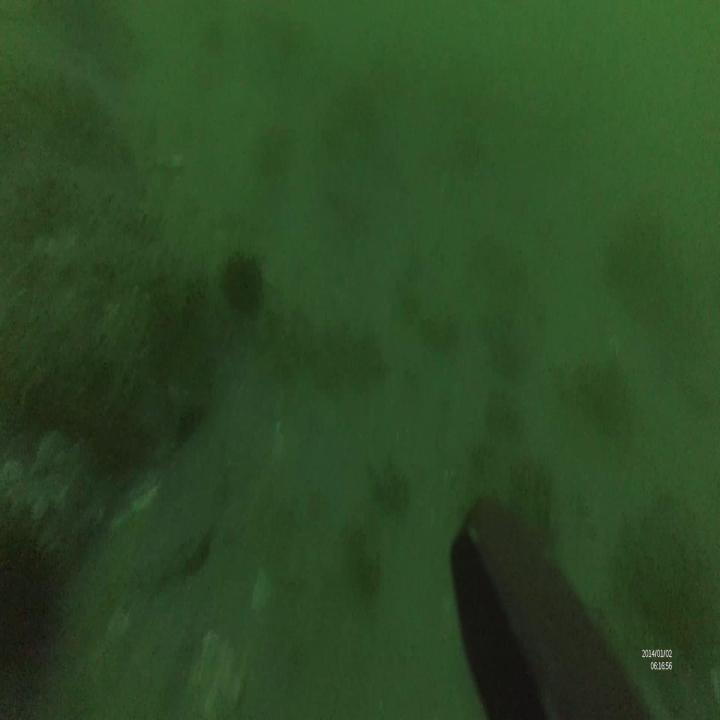echinus: (223, 247, 266, 317)
